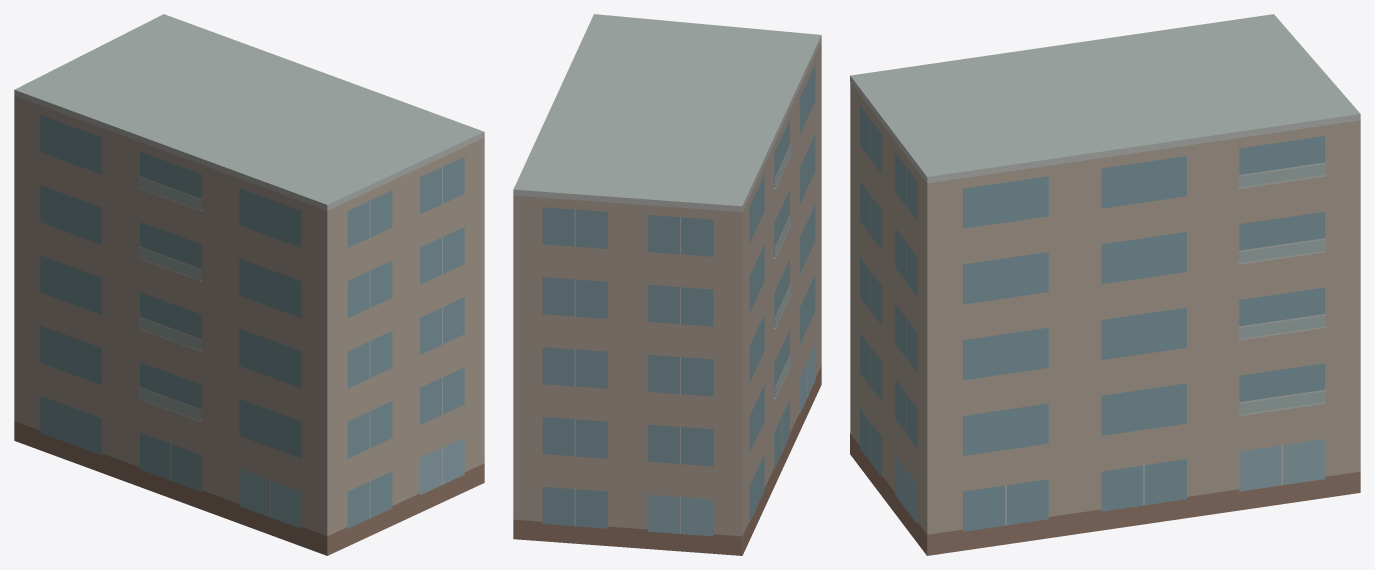
File: survey-upis-32702144.glb
3 renders of one model, left to right at view 1: azimuth 30°, elevation 25°; view 2: azimuth 150°, elevation 25°; view 3: azimuth 270°, elevation 25°, orthographic. The views are drawn at different scales.
Visible parts, largest first — view 1: survey-upis-32702144.tmp; view 2: survey-upis-32702144.tmp; view 3: survey-upis-32702144.tmp.
Boxes of the visible parts, x1=… form: survey-upis-32702144.tmp: x1=14, y1=14, x2=484, y2=555; survey-upis-32702144.tmp: x1=513, y1=14, x2=821, y2=555; survey-upis-32702144.tmp: x1=850, y1=14, x2=1360, y2=555.
Bounding box in the file's own units: 13.4 × 14.5 × 17.72.
